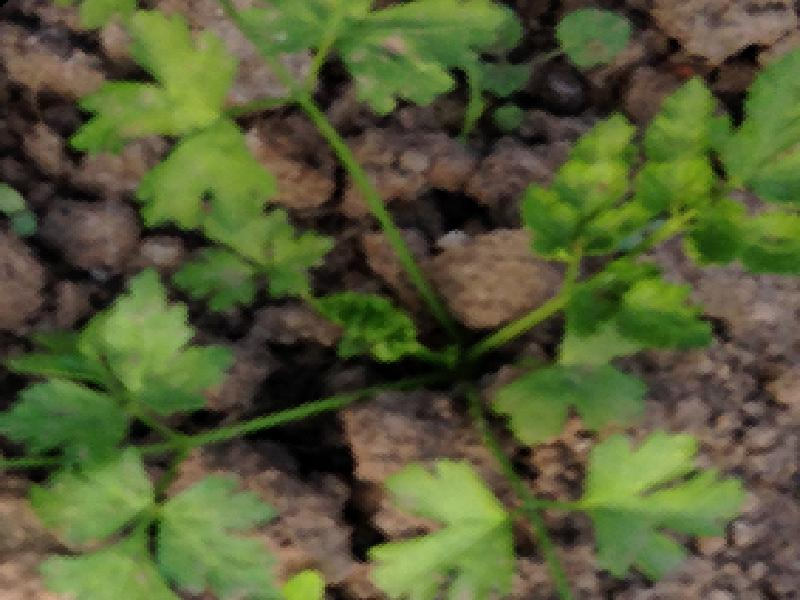radish: (0, 16, 800, 600)
